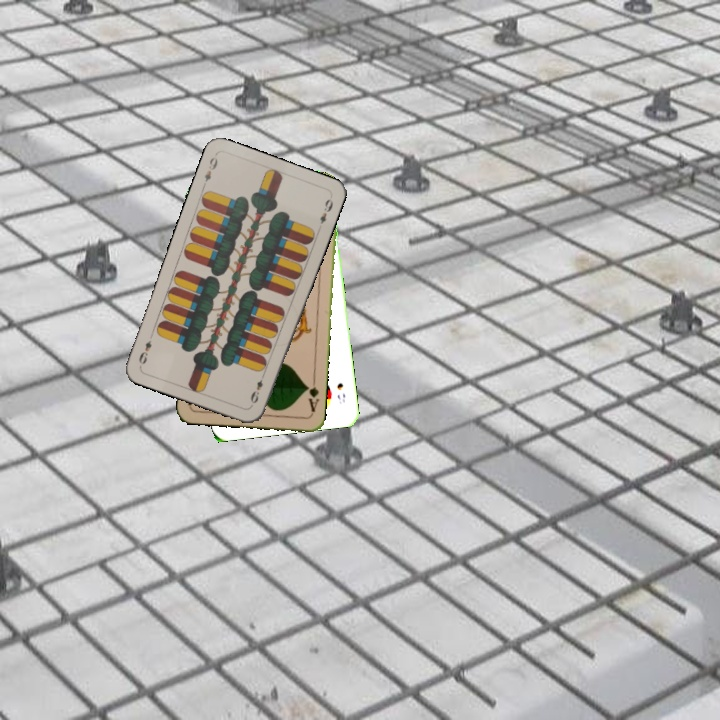E9: (246, 369, 267, 408), (199, 153, 220, 190)
GA: (302, 375, 321, 416)
S8: (333, 379, 348, 406)
